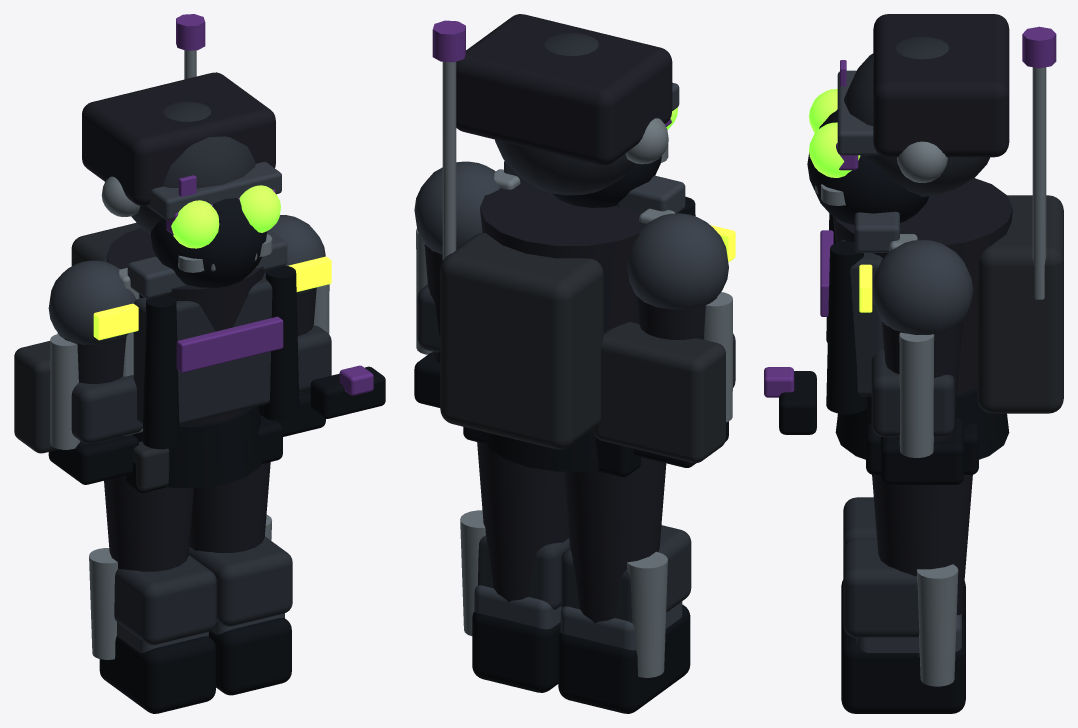
Rendered from recon_l01.glb.
3 views of the same model, side by side, from view 1: azimuth 30°, elevation 25°; view 2: azimuth 150°, elevation 25°; view 3: azimuth 270°, elevation 25° (orthographic). The views are drawn at different scales.
Parts seen in each view (by area): view 1: hood, shaped_knee_guard (×2), trouser (×2), boot (×2), vest_tether (×2), segmented_vest, shoulder_joint (×2), waist_flex, forearm_plate (×2), enclosed_mask, rounded_helmet, body (+20 smaller); view 2: field_pack, hood, trouser (×2), map_satchel, boot (×2), shoulder_joint (×2), body, shin_frame (×2), shaped_knee_guard (×2), rounded_helmet, shin_plate (×2), sleeve (×2) (+10 smaller); view 3: hood, field_pack, trouser, body, shoulder_joint, shaped_knee_guard (×2), boot, vest_tether, rounded_helmet, shin_frame, enclosed_mask, forearm_seam (+18 smaller).
Boxes of the visible parts, <box> form: hood: <box>82,72,275,205</box>; shaped_knee_guard (×2): <box>114,536,292,645</box>; trouser (×2): <box>104,462,270,571</box>; boot (×2): <box>99,617,291,713</box>; vest_tether (×2): <box>142,265,299,449</box>; segmented_vest: <box>133,270,272,425</box>; shoulder_joint (×2): <box>48,215,325,345</box>; waist_flex: <box>132,406,262,487</box>; forearm_plate (×2): <box>71,325,331,444</box>; enclosed_mask: <box>150,198,267,288</box>; rounded_helmet: <box>131,101,255,233</box>; body: <box>106,228,265,424</box>; field_pack: <box>440,232,603,449</box>; hood: <box>456,14,672,165</box>; trouser (×2): <box>477,442,666,623</box>; map_satchel: <box>594,322,725,463</box>; boot (×2): <box>472,604,690,713</box>; shoulder_joint (×2): <box>414,161,728,309</box>; body: <box>480,184,645,332</box>; shin_frame (×2): <box>460,510,667,677</box>; shaped_knee_guard (×2): <box>478,525,691,622</box>; rounded_helmet: <box>495,33,635,195</box>; shin_plate (×2): <box>474,585,682,650</box>; sleeve (×2): <box>424,244,716,362</box>; hood: <box>873,14,1009,157</box>; field_pack: <box>977,195,1063,413</box>; trouser: <box>872,474,972,615</box>; body: <box>832,178,1012,394</box>; shoulder_joint: <box>872,240,973,334</box>; shaped_knee_guard (×2): <box>843,497,919,637</box>; boot: <box>841,618,965,713</box>; vest_tether: <box>826,241,867,414</box>; rounded_helmet: <box>844,36,989,196</box>; shin_frame: <box>917,564,958,686</box>; enclosed_mask: <box>807,110,929,224</box>; forearm_seam: <box>899,332,934,457</box>.
Bounding box in the file's own units: 0.9653 × 1.97 × 0.795.
